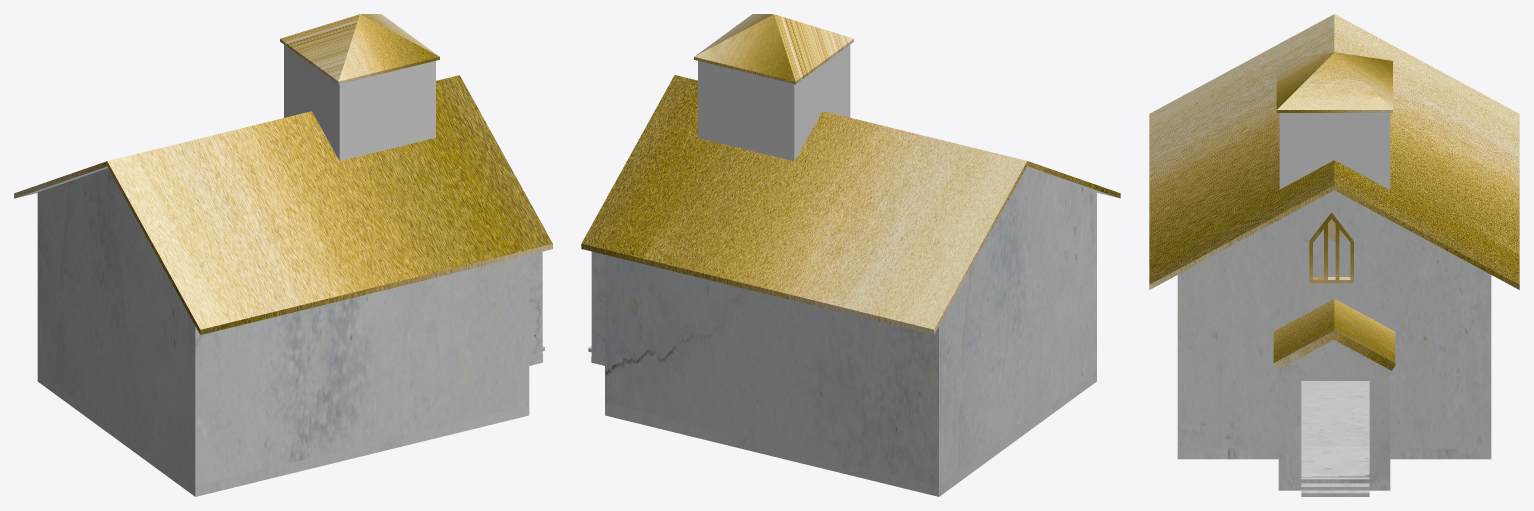
File: church1.glb
3 views of the same model, side by side, from view 1: azimuth 30°, elevation 25°; view 2: azimuth 150°, elevation 25°; view 3: azimuth 270°, elevation 25° (orthographic).
Parts seen in each view (by area): view 1: Cube, Cube.002, Cube.004, Cube.005, Cube.008, Cube.001; view 2: Cube, Cube.002, Cube.004, Cube.005, Cube.008, Cube.001; view 3: Cube.002, Cube, Cube.008, Cube.001, Cube.004, Cube.005, Cube.003, Cube.006.
Boxes of the visible parts, bbox=[...] form: Cube: bbox=[37, 168, 529, 486]; Cube.002: bbox=[14, 75, 552, 334]; Cube.004: bbox=[284, 45, 435, 160]; Cube.005: bbox=[280, 14, 439, 84]; Cube.008: bbox=[37, 346, 544, 496]; Cube.001: bbox=[529, 251, 542, 355]; Cube: bbox=[605, 168, 1096, 485]; Cube.002: bbox=[581, 75, 1120, 334]; Cube.004: bbox=[698, 45, 850, 161]; Cube.005: bbox=[694, 14, 853, 84]; Cube.008: bbox=[588, 346, 1096, 496]; Cube.001: bbox=[591, 251, 604, 355]; Cube.002: bbox=[1149, 14, 1519, 289]; Cube: bbox=[1177, 190, 1491, 448]; Cube.008: bbox=[1177, 381, 1491, 496]; Cube.001: bbox=[1278, 340, 1390, 479]; Cube.004: bbox=[1279, 113, 1390, 189]; Cube.005: bbox=[1276, 52, 1392, 112]; Cube.003: bbox=[1273, 299, 1395, 370]; Cube.006: bbox=[1309, 212, 1353, 283].
Size of the model in its own units: 20.18 by 16.82 by 15.47.
3 materials, 3 textured.
